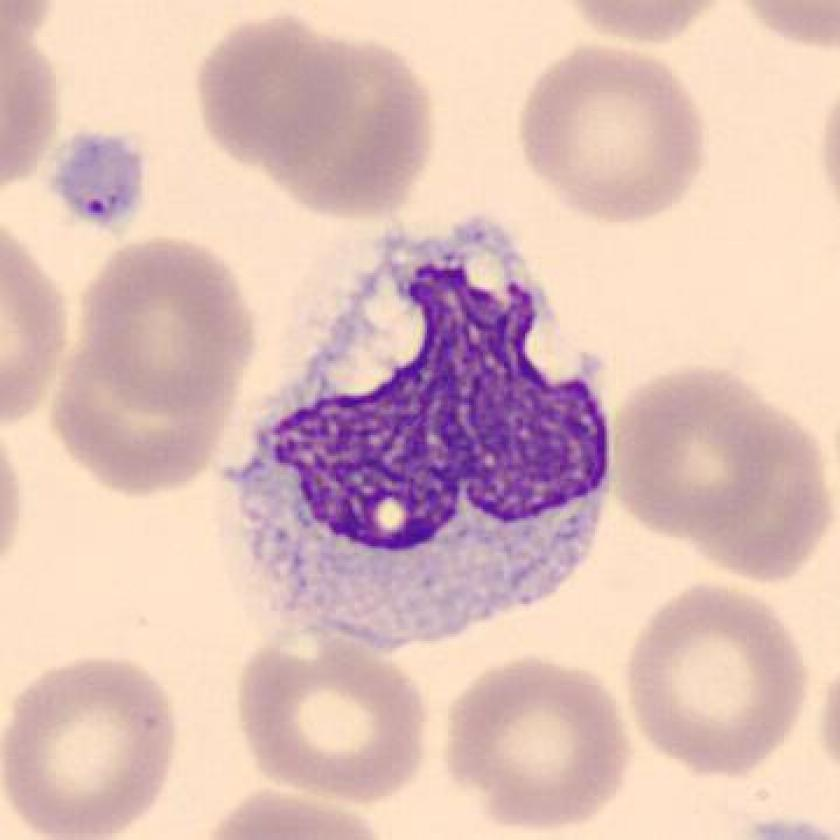monocyte: (206, 195, 629, 679)
